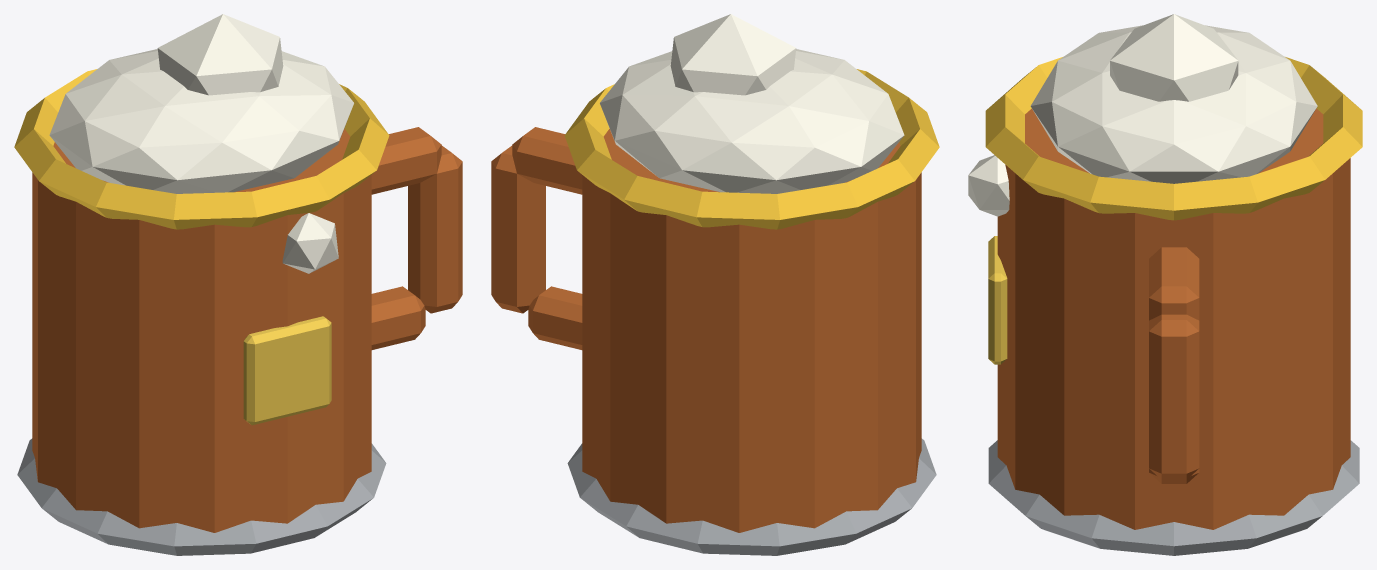
File: beer.glb
The picture shows the model from 3 angles, left to right: view 1: azimuth 30°, elevation 25°; view 2: azimuth 150°, elevation 25°; view 3: azimuth 270°, elevation 25°; orthographic projection. The views are drawn at different scales.
Parts seen in each view (by area): view 1: beer-amber-pint-body, beer-foam-cap, beer-gold-top-rim, beer-silver-bottom-rim, beer-wheat-badge, beer-handle-vert, beer-foam-mound, beer-handle-top, beer-handle-bot, beer-foam-drip; view 2: beer-amber-pint-body, beer-foam-cap, beer-gold-top-rim, beer-silver-bottom-rim, beer-handle-vert, beer-foam-mound, beer-handle-top, beer-handle-bot; view 3: beer-amber-pint-body, beer-foam-cap, beer-gold-top-rim, beer-silver-bottom-rim, beer-foam-mound, beer-handle-vert, beer-handle-top, beer-wheat-badge, beer-foam-drip.
Boxes of the visible parts, x1=… form: beer-amber-pint-body: x1=32, y1=129, x2=371, y2=532; beer-foam-cap: x1=49, y1=49, x2=353, y2=193; beer-gold-top-rim: x1=14, y1=69, x2=389, y2=229; beer-silver-bottom-rim: x1=17, y1=438, x2=386, y2=555; beer-wheat-badge: x1=243, y1=316, x2=331, y2=425; beer-handle-vert: x1=408, y1=145, x2=462, y2=313; beer-foam-mound: x1=157, y1=14, x2=283, y2=95; beer-handle-top: x1=371, y1=127, x2=441, y2=194; beer-handle-bot: x1=371, y1=286, x2=425, y2=349; beer-foam-drip: x1=282, y1=213, x2=338, y2=273; beer-amber-pint-body: x1=582, y1=129, x2=921, y2=532; beer-foam-cap: x1=600, y1=49, x2=904, y2=193; beer-gold-top-rim: x1=564, y1=69, x2=939, y2=229; beer-silver-bottom-rim: x1=567, y1=438, x2=936, y2=555; beer-handle-vert: x1=491, y1=145, x2=545, y2=313; beer-foam-mound: x1=670, y1=14, x2=796, y2=95; beer-handle-top: x1=512, y1=127, x2=582, y2=194; beer-handle-bot: x1=528, y1=286, x2=582, y2=349; beer-amber-pint-body: x1=997, y1=108, x2=1350, y2=529; beer-foam-cap: x1=1030, y1=25, x2=1317, y2=183; beer-gold-top-rim: x1=985, y1=57, x2=1362, y2=220; beer-silver-bottom-rim: x1=988, y1=440, x2=1359, y2=555; beer-foam-mound: x1=1110, y1=14, x2=1238, y2=101; beer-handle-vert: x1=1149, y1=314, x2=1199, y2=479; beer-handle-top: x1=1149, y1=247, x2=1199, y2=320; beer-wheat-badge: x1=988, y1=236, x2=1007, y2=364; beer-foam-drip: x1=968, y1=155, x2=1009, y2=216.
Bounding box in the file's own units: 0.9347 × 1 × 0.7436.
